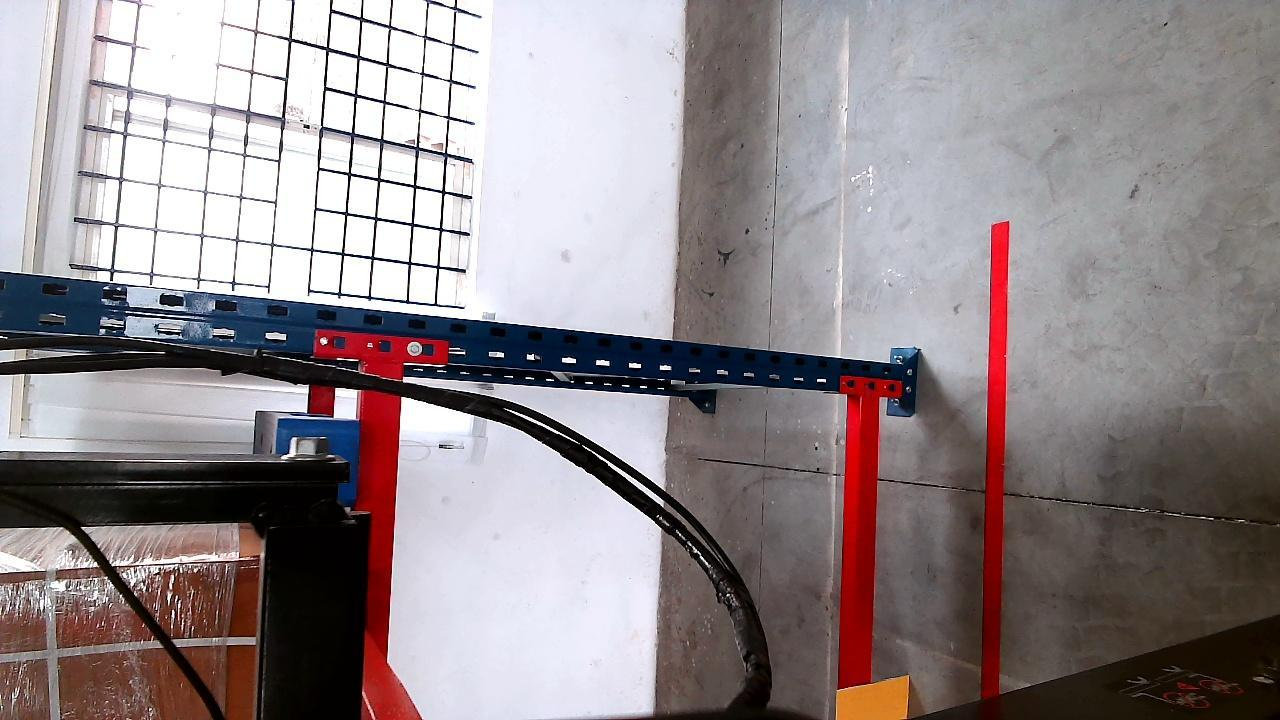red_line: (982, 232, 1010, 695)
